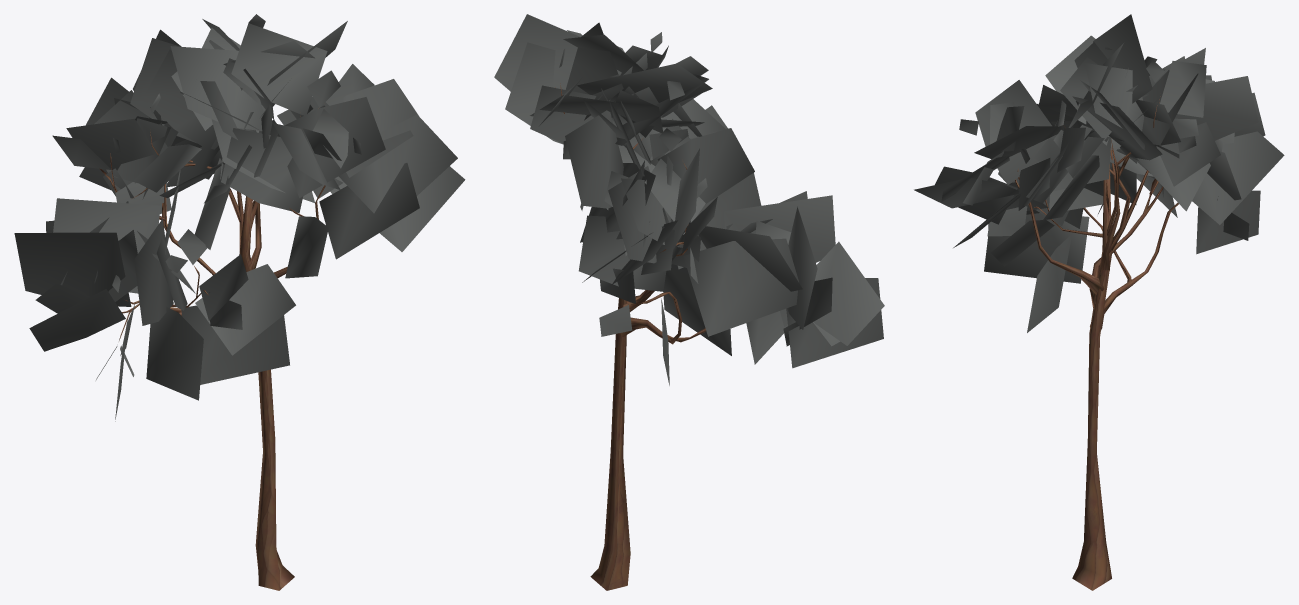
Rendered from SM_Tree_05.fbx.
The picture shows the model from 3 angles, left to right: view 1: azimuth 30°, elevation 25°; view 2: azimuth 150°, elevation 25°; view 3: azimuth 270°, elevation 25°; orthographic projection. The views are drawn at different scales.
Parts seen in each view (by area): view 1: SM_Tree_05; view 2: SM_Tree_05; view 3: SM_Tree_05.
Part boxes in pixels (<box>): SM_Tree_05: <box>14,14,465,590</box>; SM_Tree_05: <box>494,14,884,590</box>; SM_Tree_05: <box>914,14,1284,590</box>.
Bounding box in the file's own units: 337 × 459 × 289.
